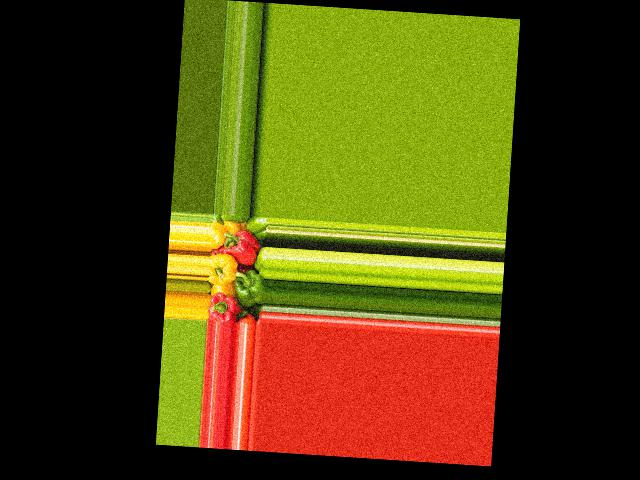bell_pepper: (207, 288, 242, 322)
